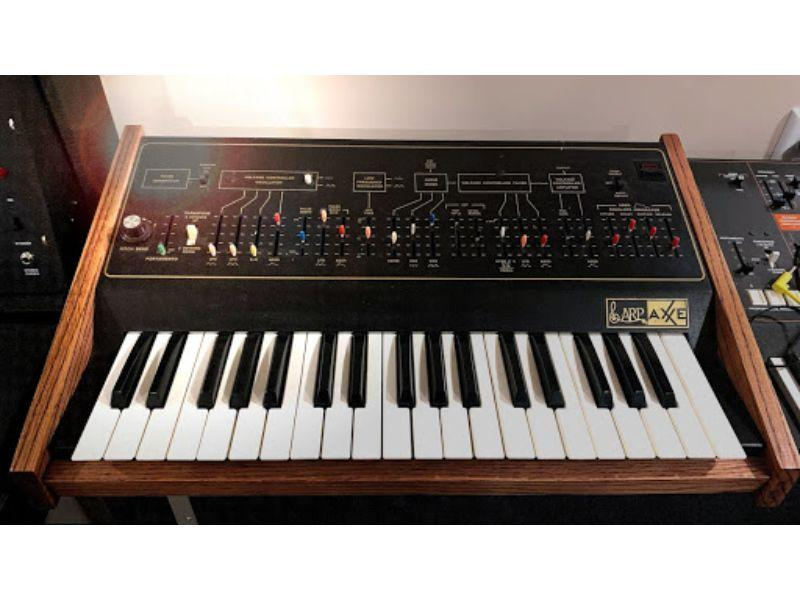synthesizer: (17, 109, 755, 508)
